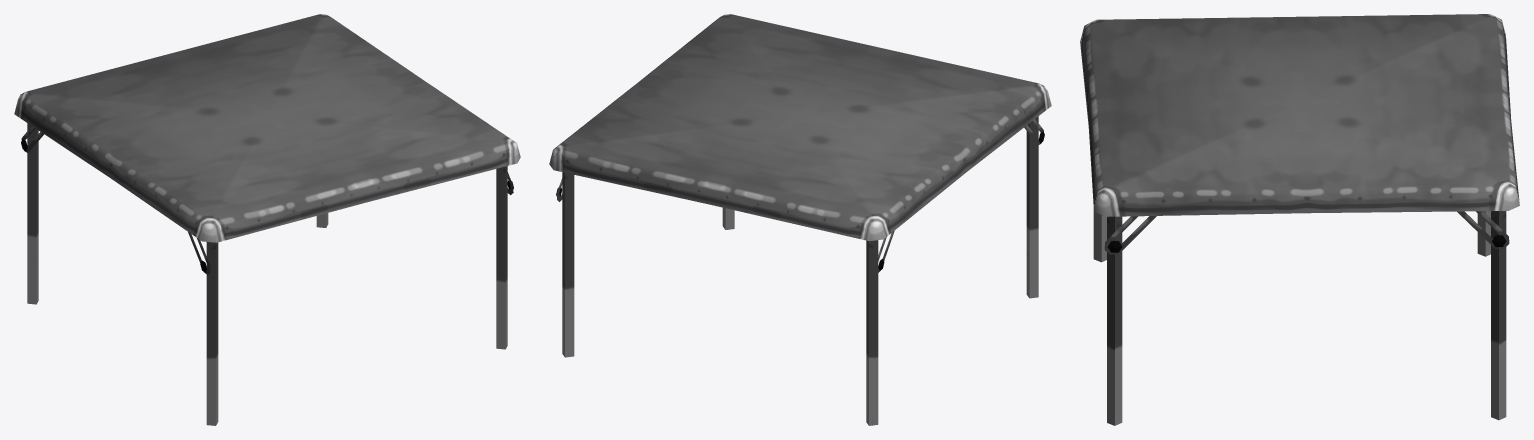
File: obj_CardTable.fbx
3 views of the same model, side by side, from view 1: azimuth 30°, elevation 25°; view 2: azimuth 150°, elevation 25°; view 3: azimuth 270°, elevation 25° (orthographic). The views are drawn at different scales.
Visible parts, largest first — view 1: obj_CardTable; view 2: obj_CardTable; view 3: obj_CardTable.
Boxes of the visible parts, <box> form: obj_CardTable: <box>14,14,520,425</box>; obj_CardTable: <box>549,14,1051,425</box>; obj_CardTable: <box>1080,14,1519,425</box>.
Bounding box in the file's own units: 1.08 × 0.6389 × 1.08.
